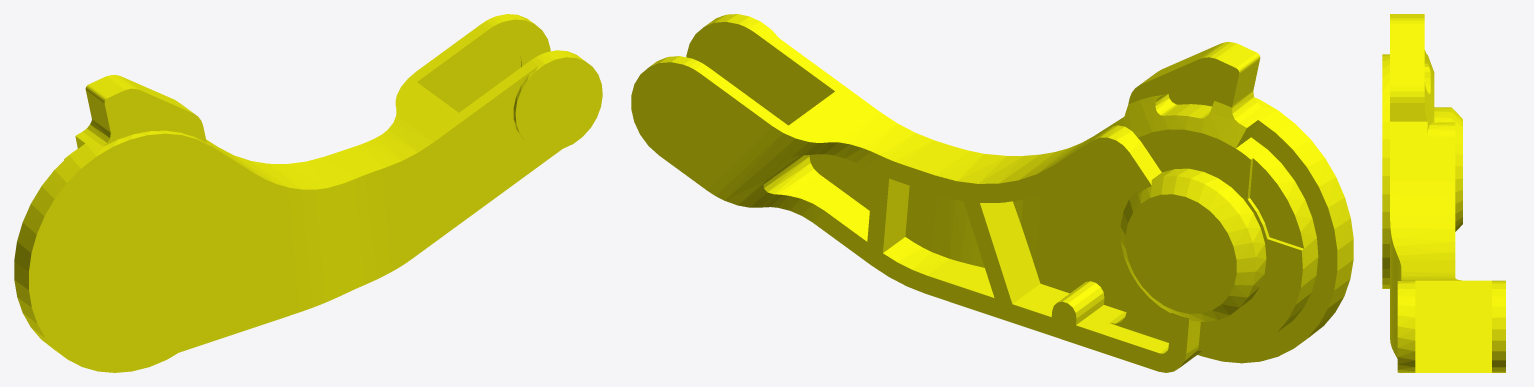
3 views of the same model, side by side, from view 1: azimuth 30°, elevation 25°; view 2: azimuth 150°, elevation 25°; view 3: azimuth 270°, elevation 25° (orthographic). The views are drawn at different scales.
Parts seen in each view (by area): view 1: node; view 2: node; view 3: node.
Part boxes in pixels (x1=…): node: x1=14, y1=14, x2=602, y2=372; node: x1=631, y1=14, x2=1353, y2=372; node: x1=1382, y1=14, x2=1505, y2=372.
Bounding box in the file's own units: 800 × 366 × 179.
